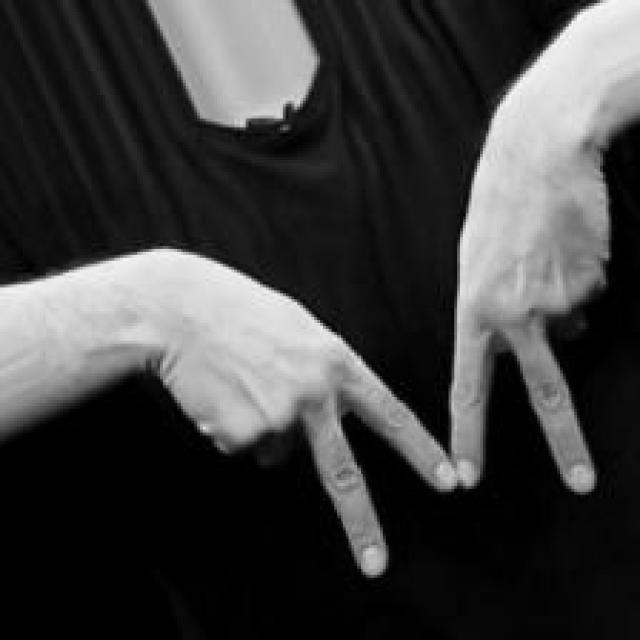M: (165, 133, 616, 591)
